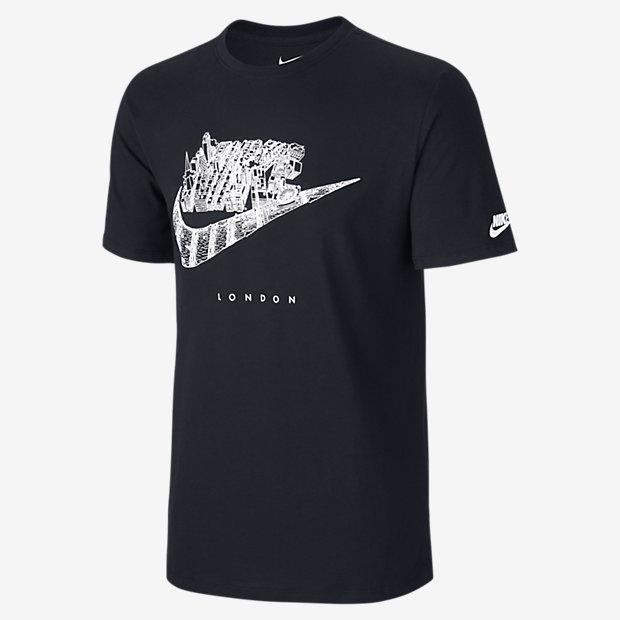teeshirt: (81, 11, 528, 620)
